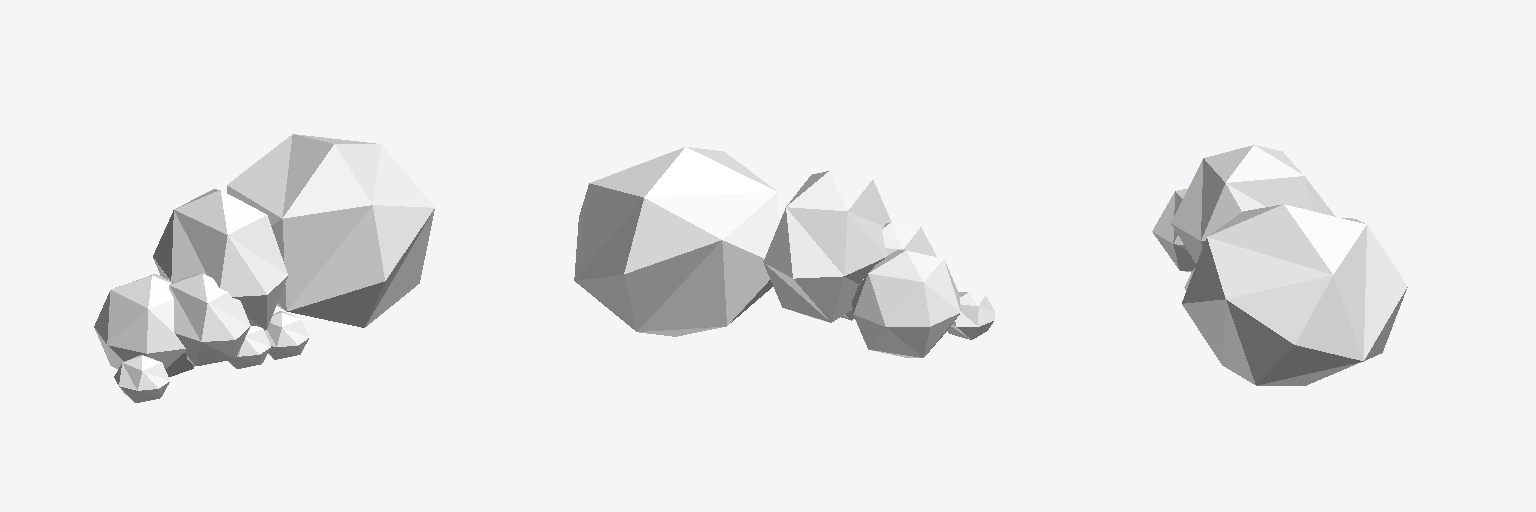
The model's file is cloud3.obj.
3 views of the same model, side by side, from view 1: azimuth 30°, elevation 25°; view 2: azimuth 150°, elevation 25°; view 3: azimuth 270°, elevation 25° (orthographic).
Visible parts, largest first — view 1: GeoSphere039 Mesh, GeoSphere034 Mesh, GeoSphere037 Mesh, GeoSphere036 Mesh, GeoSphere038 Mesh, GeoSphere033 Mesh, GeoSphere035 Mesh; view 2: GeoSphere039 Mesh, GeoSphere034 Mesh, GeoSphere037 Mesh, GeoSphere038 Mesh, GeoSphere036 Mesh; view 3: GeoSphere039 Mesh, GeoSphere034 Mesh, GeoSphere036 Mesh.
Part boxes in pixels (x1,y1,x2,y2): GeoSphere039 Mesh: (227,134,434,327); GeoSphere034 Mesh: (153,189,287,330); GeoSphere037 Mesh: (94,274,194,376); GeoSphere036 Mesh: (169,273,250,365); GeoSphere038 Mesh: (114,355,169,402); GeoSphere033 Mesh: (265,311,309,359); GeoSphere035 Mesh: (228,326,270,368); GeoSphere039 Mesh: (574,147,779,336); GeoSphere034 Mesh: (763,171,891,322); GeoSphere037 Mesh: (852,250,960,357); GeoSphere038 Mesh: (947,292,994,339); GeoSphere036 Mesh: (859,223,936,284); GeoSphere039 Mesh: (1182,204,1407,385); GeoSphere034 Mesh: (1171,145,1335,263); GeoSphere036 Mesh: (1152,189,1195,272).
Bounding box in the file's own units: 211 × 101 × 129.